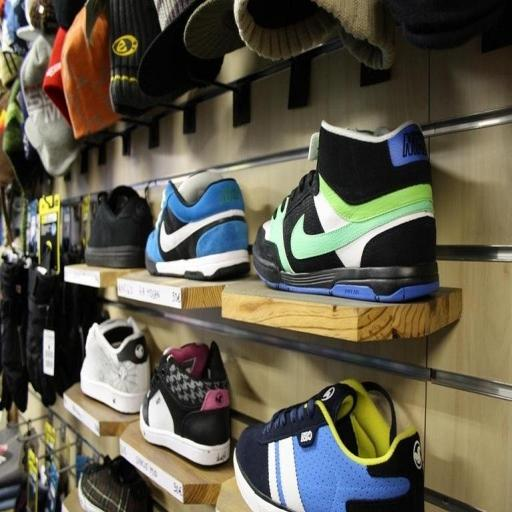shoe: (252, 122, 438, 302), (234, 380, 424, 512), (146, 171, 250, 280), (140, 341, 230, 466), (80, 317, 151, 414), (85, 186, 153, 268), (78, 456, 151, 512)
